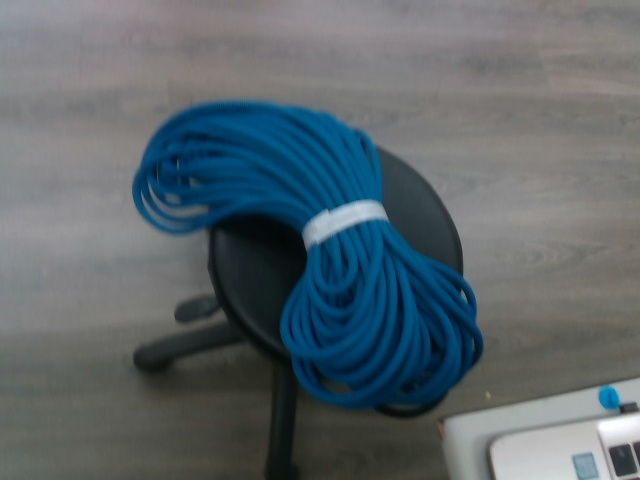rope: (127, 95, 491, 418)
